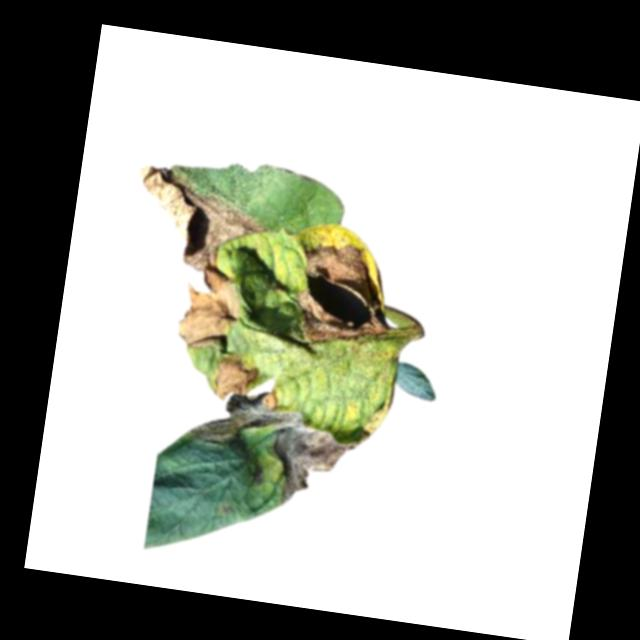Late_blight: (181, 382, 366, 513), (127, 160, 277, 280), (289, 238, 398, 353), (174, 270, 250, 356), (212, 353, 258, 404)
